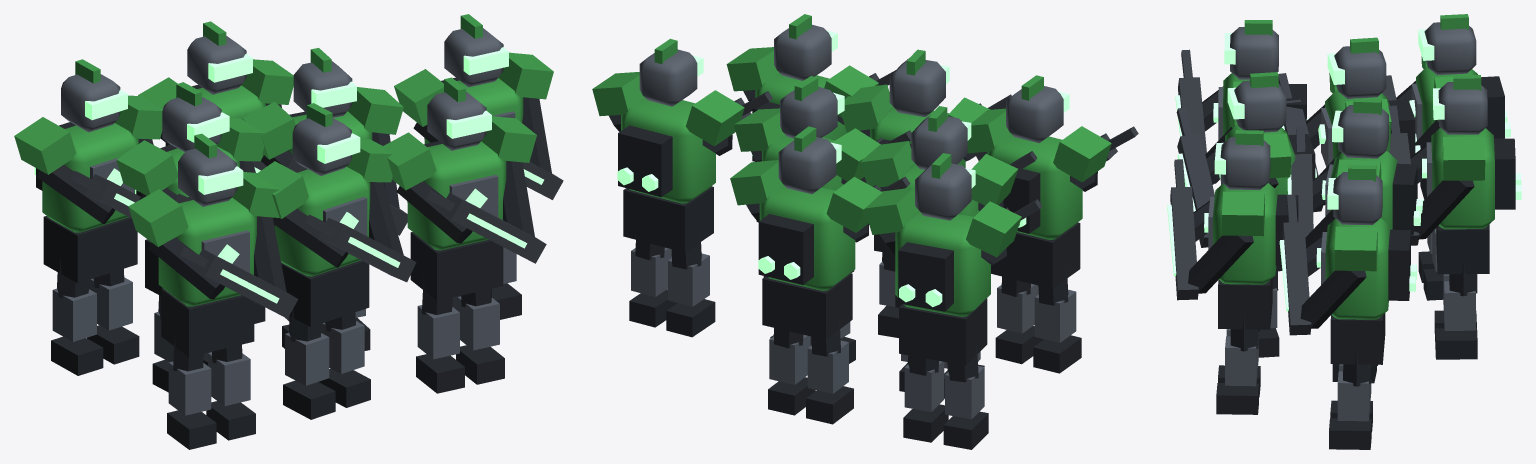
The model's file is squad_dl8_green.glb.
3 renders of one model, left to right at view 1: azimuth 30°, elevation 25°; view 2: azimuth 150°, elevation 25°; view 3: azimuth 270°, elevation 25°, orthographic. The views are drawn at different scales.
Parts seen in each view (by area): view 1: squad_dl8_green; view 2: squad_dl8_green; view 3: squad_dl8_green.
Part boxes in pixels (left/top/right/bottom): squad_dl8_green: left=14, top=14, right=563, bottom=449; squad_dl8_green: left=592, top=14, right=1138, bottom=449; squad_dl8_green: left=1167, top=14, right=1521, bottom=449.
Size of the model in its own units: 0.7309 by 0.428 by 0.5139.
2 materials, 1 textured.
